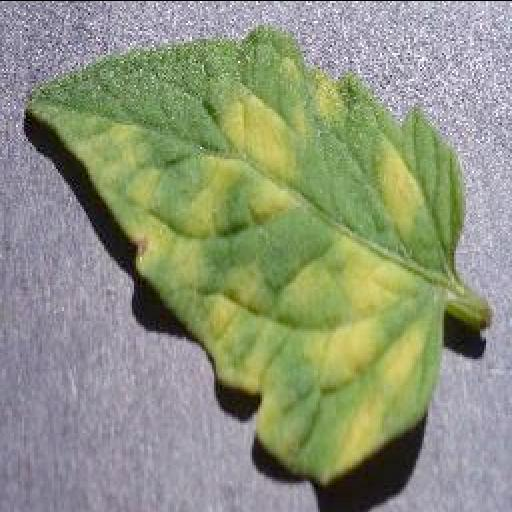disease_tomato: (22, 24, 468, 478)
